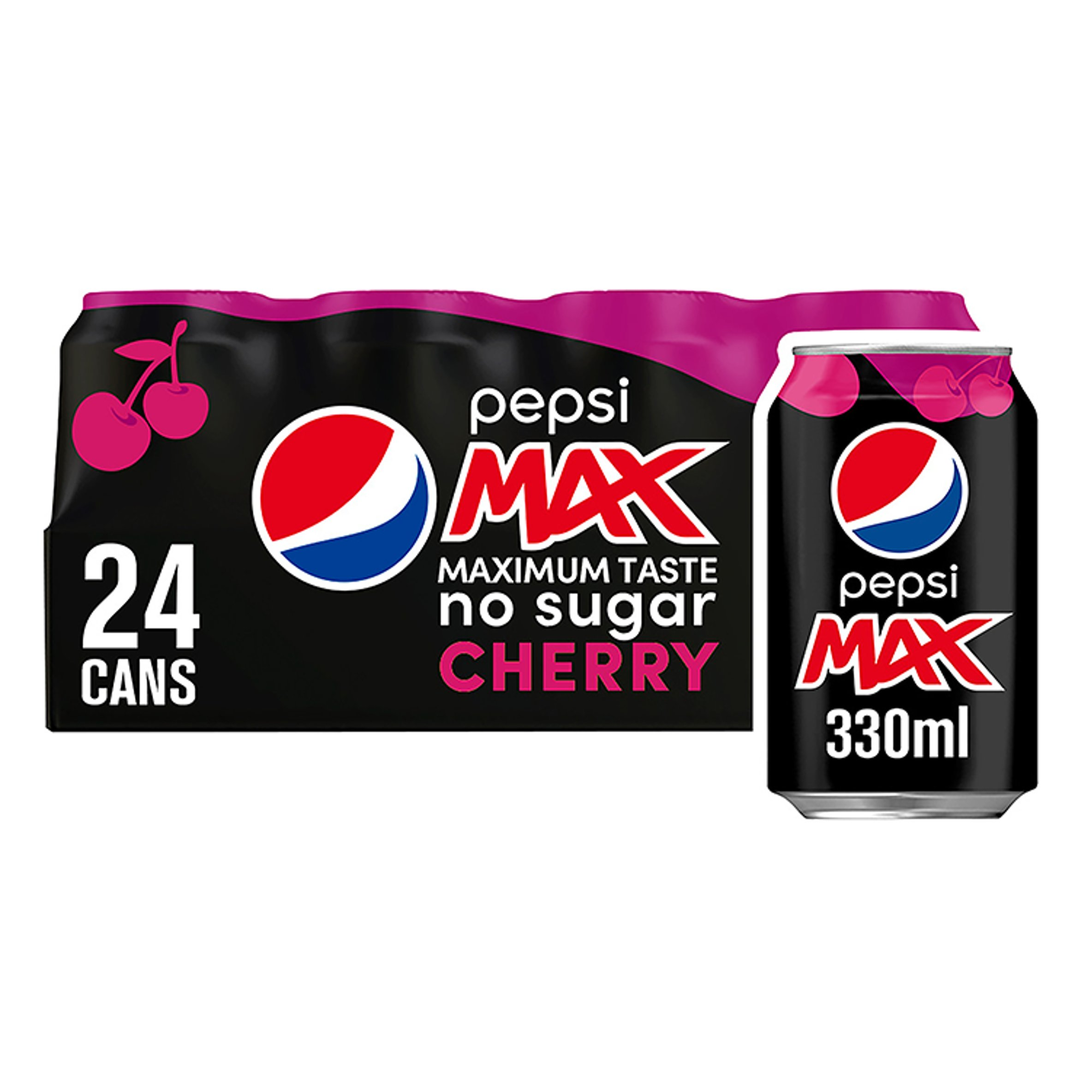cylinder: (766, 345, 1039, 819)
